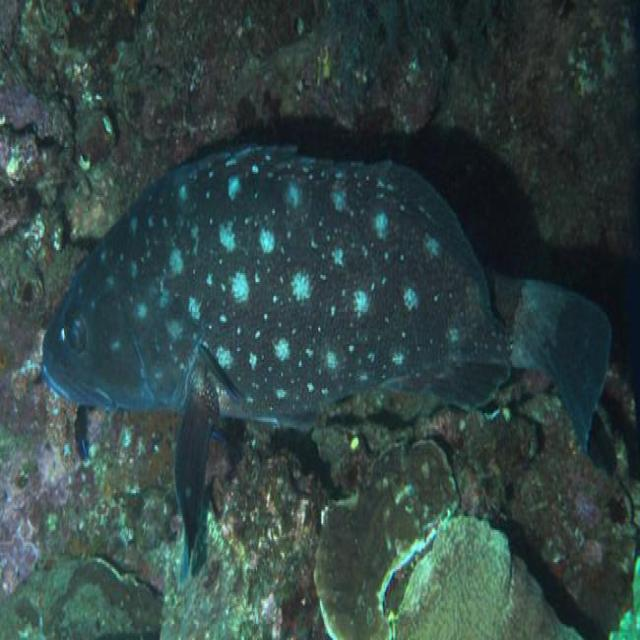ikan: (39, 136, 612, 574)
